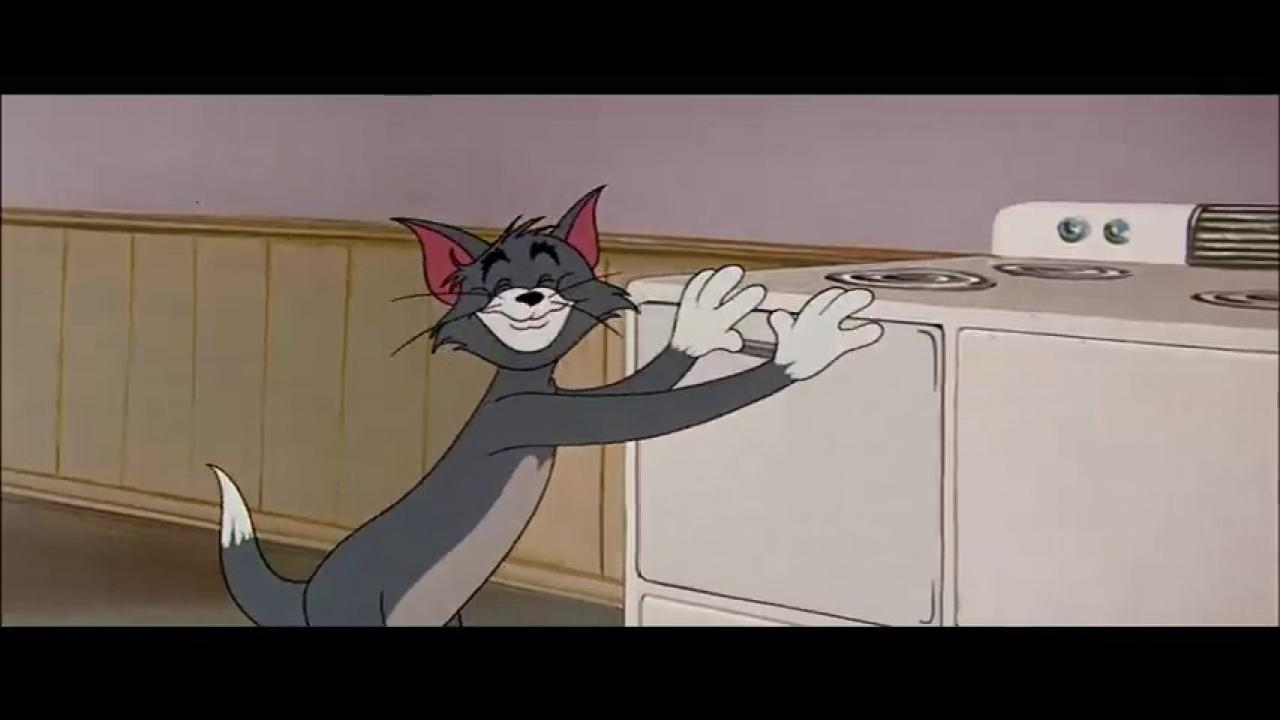Tom: (204, 182, 886, 629)
